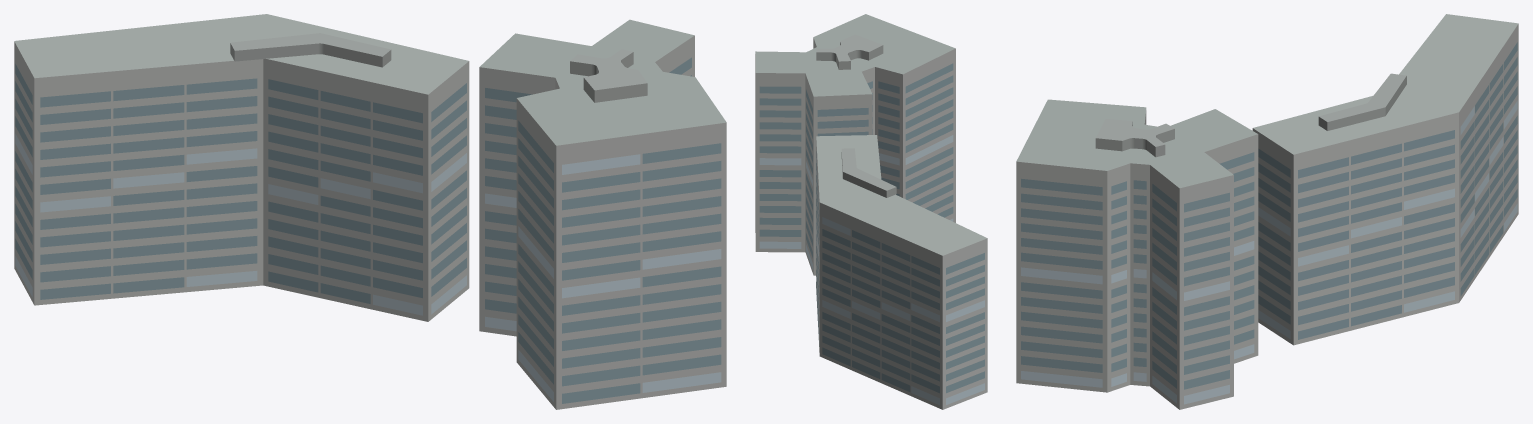
The model's file is apt-a15873902.glb.
3 renders of one model, left to right at view 1: azimuth 30°, elevation 25°; view 2: azimuth 150°, elevation 25°; view 3: azimuth 270°, elevation 25°, orthographic. The views are drawn at different scales.
Parts seen in each view (by area): view 1: apt-a15873902; view 2: apt-a15873902; view 3: apt-a15873902.
Part boxes in pixels (box(x1,y1,x2,y2)): apt-a15873902: box(14, 14, 726, 409); apt-a15873902: box(755, 14, 987, 409); apt-a15873902: box(1016, 14, 1518, 409).
Bounding box in the file's own units: 81.59 × 43 × 84.39.
